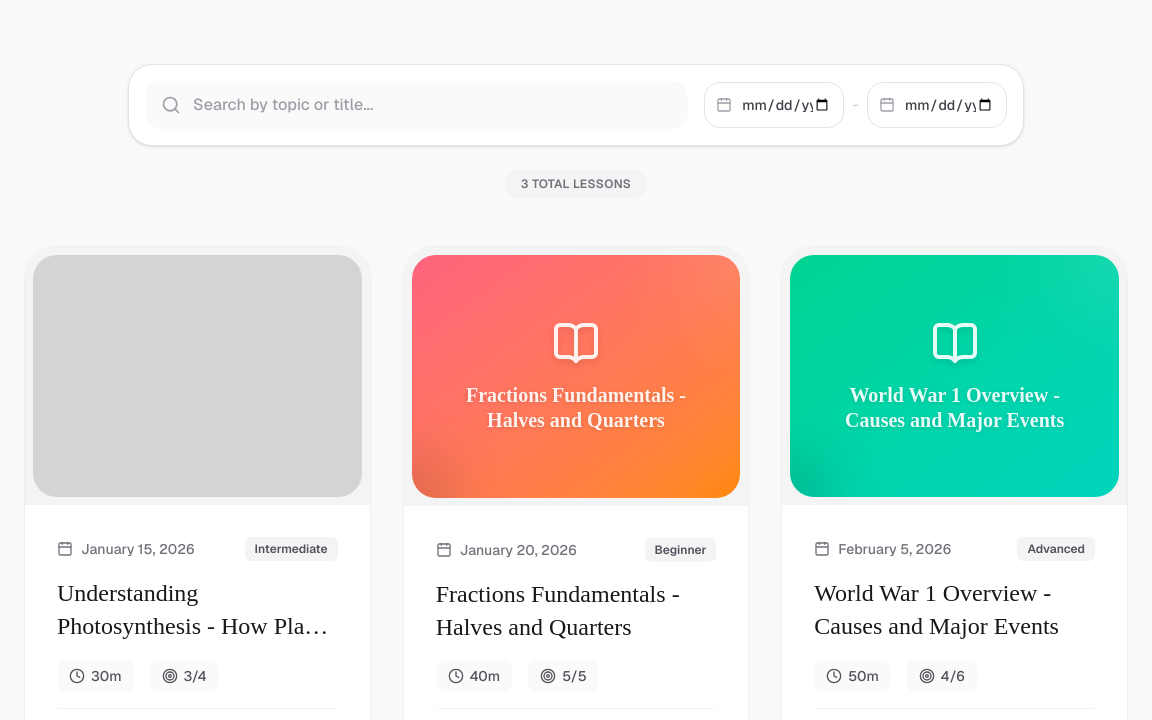
Test case: LessonHistoryClient › clears filters and resets the URL
Step 1. Type "Fractions" into the field with placeholder "Search by topic or title..." → (417, 105), box x1=145 y1=81 x2=688 y2=129
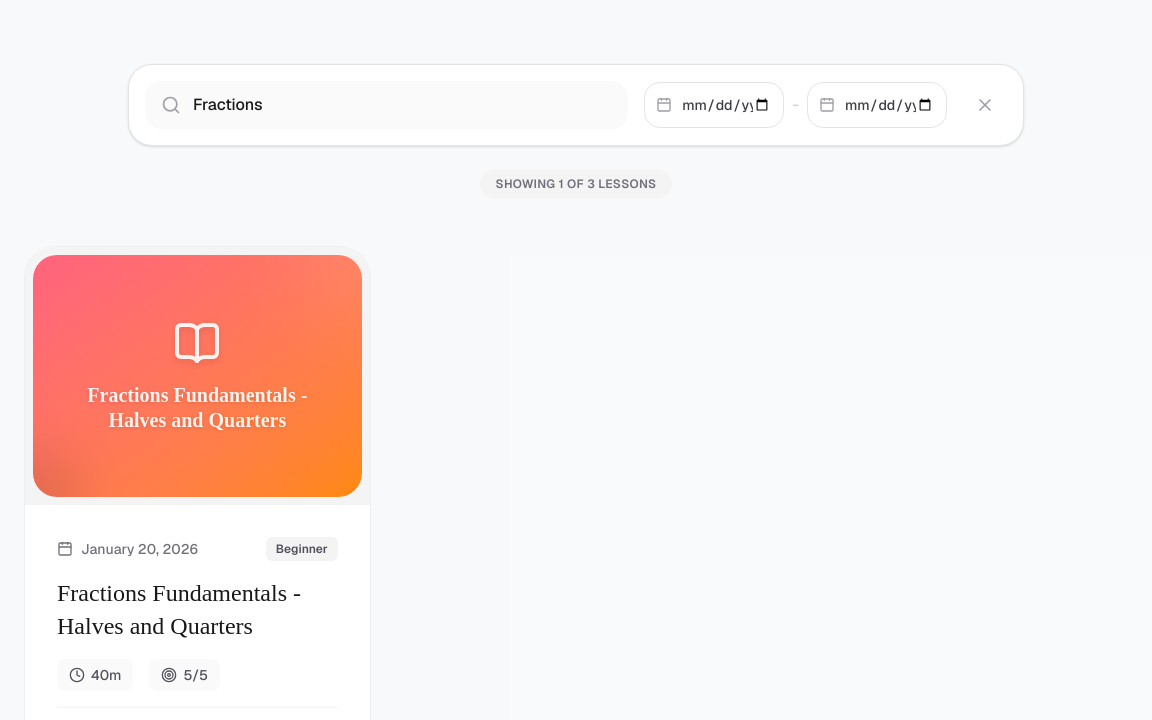
expect the button titled "Clear filters" is shown: met
Step 2. Click the button titled "Clear filters" → (985, 105), box x1=963 y1=83 x2=1007 y2=127
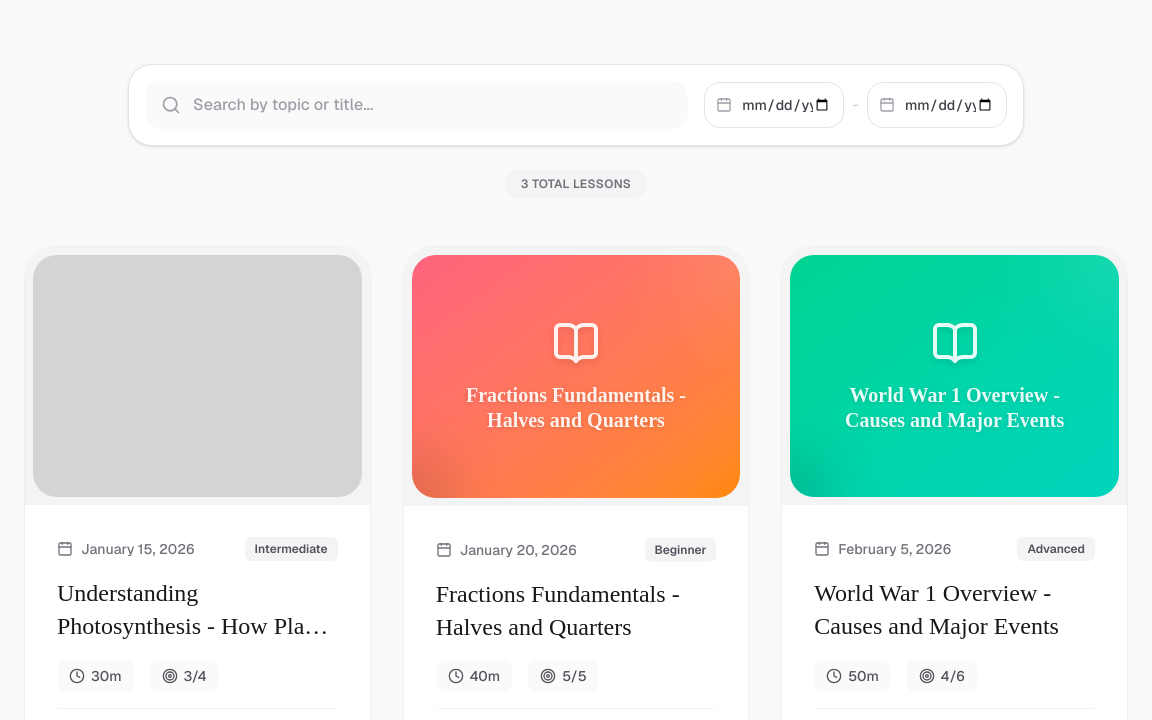
expect the heading "Understanding Photosynthesis - How Plants Make Food" is shown: met, box x1=57 y1=578 x2=338 y2=644
